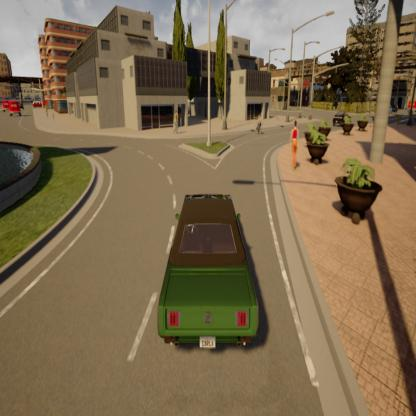Cars: (142, 176, 270, 381)
Pedestrian: (286, 112, 300, 178), (168, 108, 183, 142)
